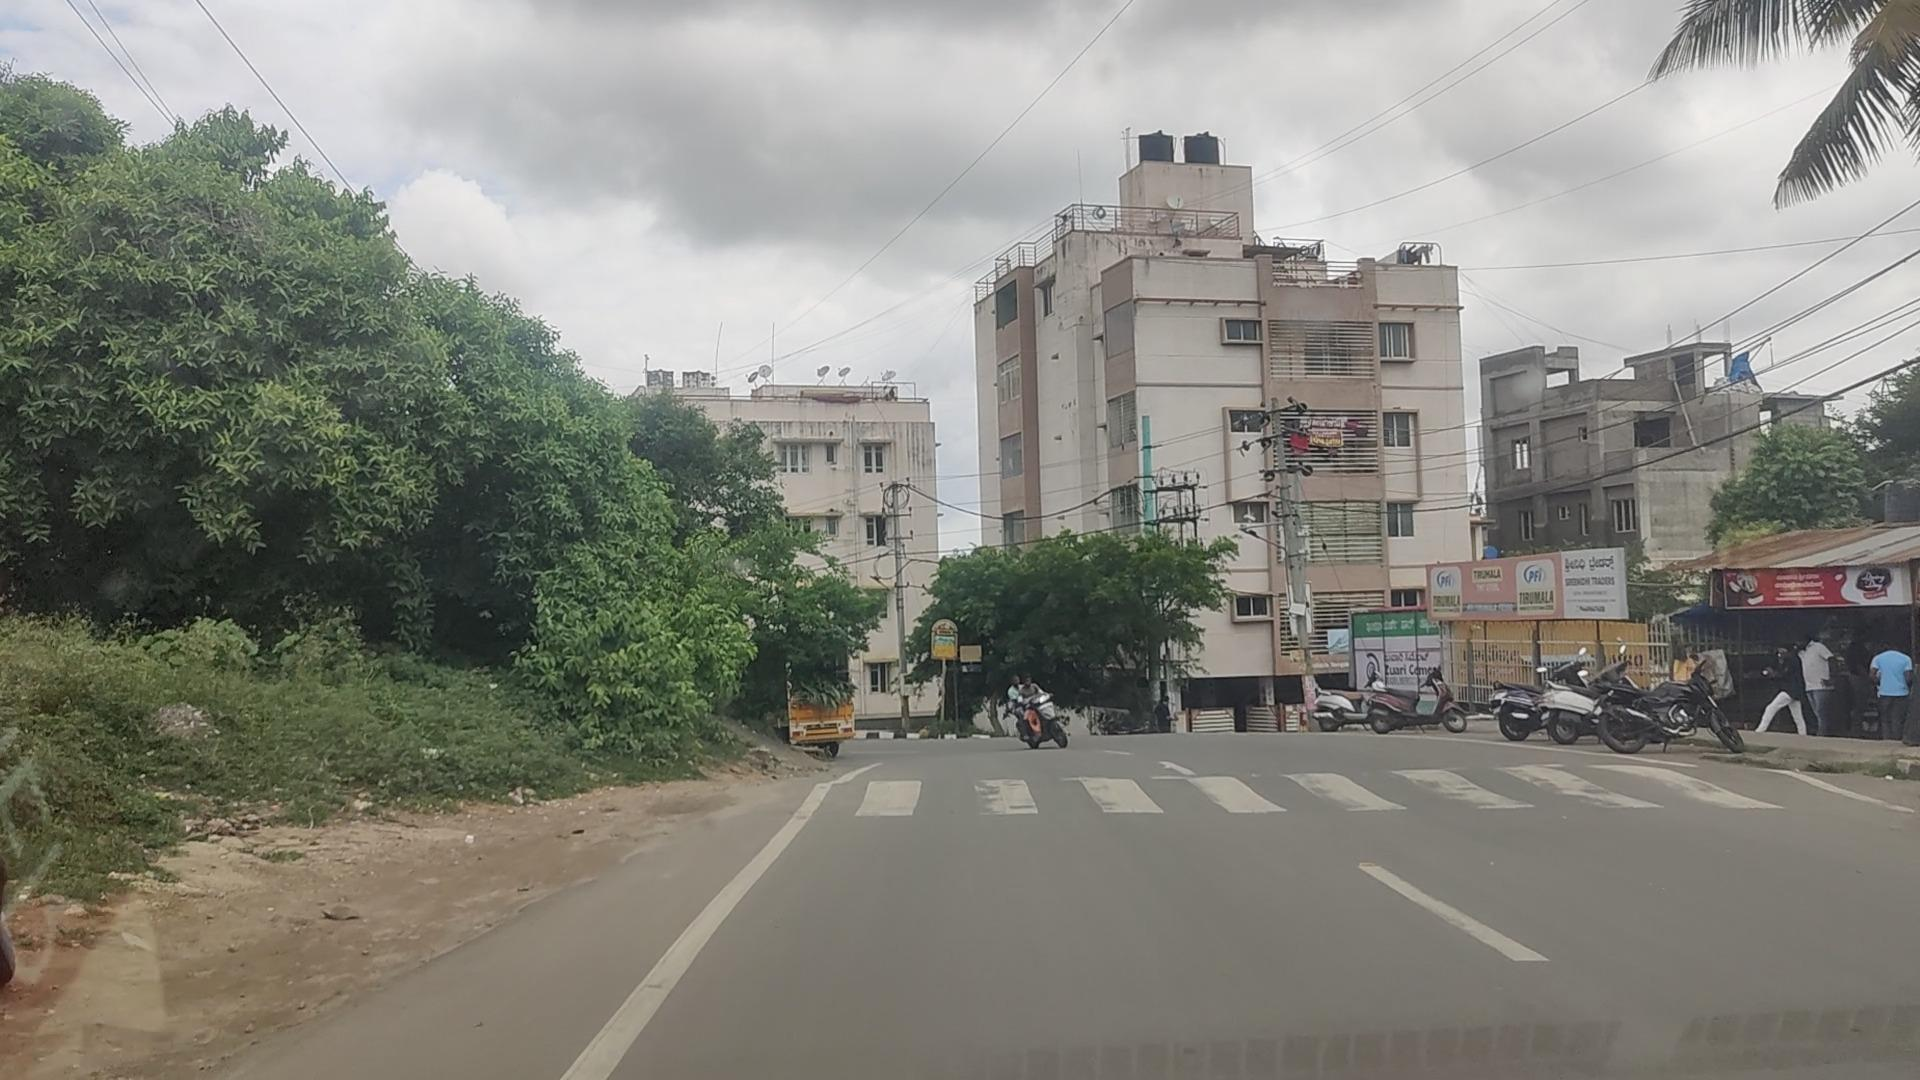SpeedBump: (811, 762, 1762, 819)
